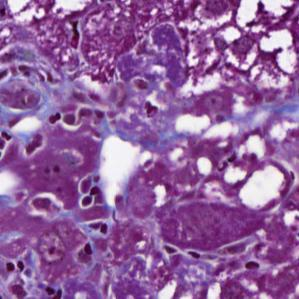inflammation: (76, 165, 104, 210)
